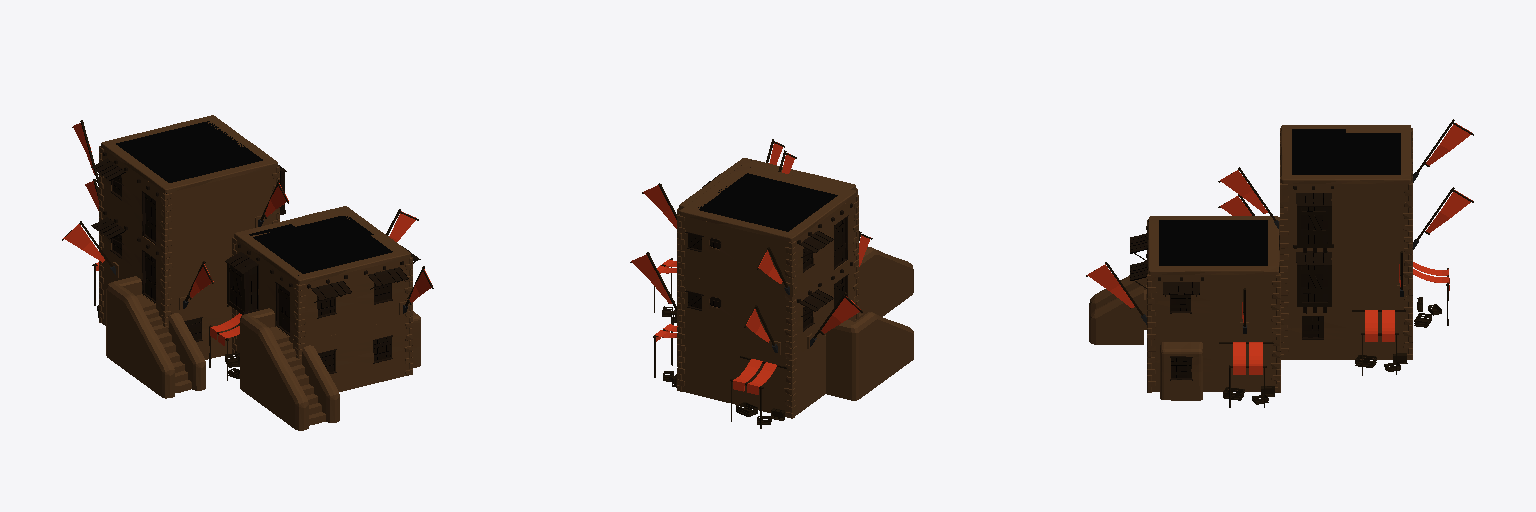
Rendered from Hij3.obj.
3 renders of one model, left to right at view 1: azimuth 30°, elevation 25°; view 2: azimuth 150°, elevation 25°; view 3: azimuth 270°, elevation 25°, orthographic.
Parts seen in each view (by area): view 1: Cube.001; view 2: Cube.001; view 3: Cube.001.
Part boxes in pixels (bbox=[...]): Cube.001: bbox=[62, 115, 433, 430]; Cube.001: bbox=[630, 139, 913, 428]; Cube.001: bbox=[1086, 119, 1473, 407].
Bounding box in the file's own units: 15.46 × 9.57 × 18.02.